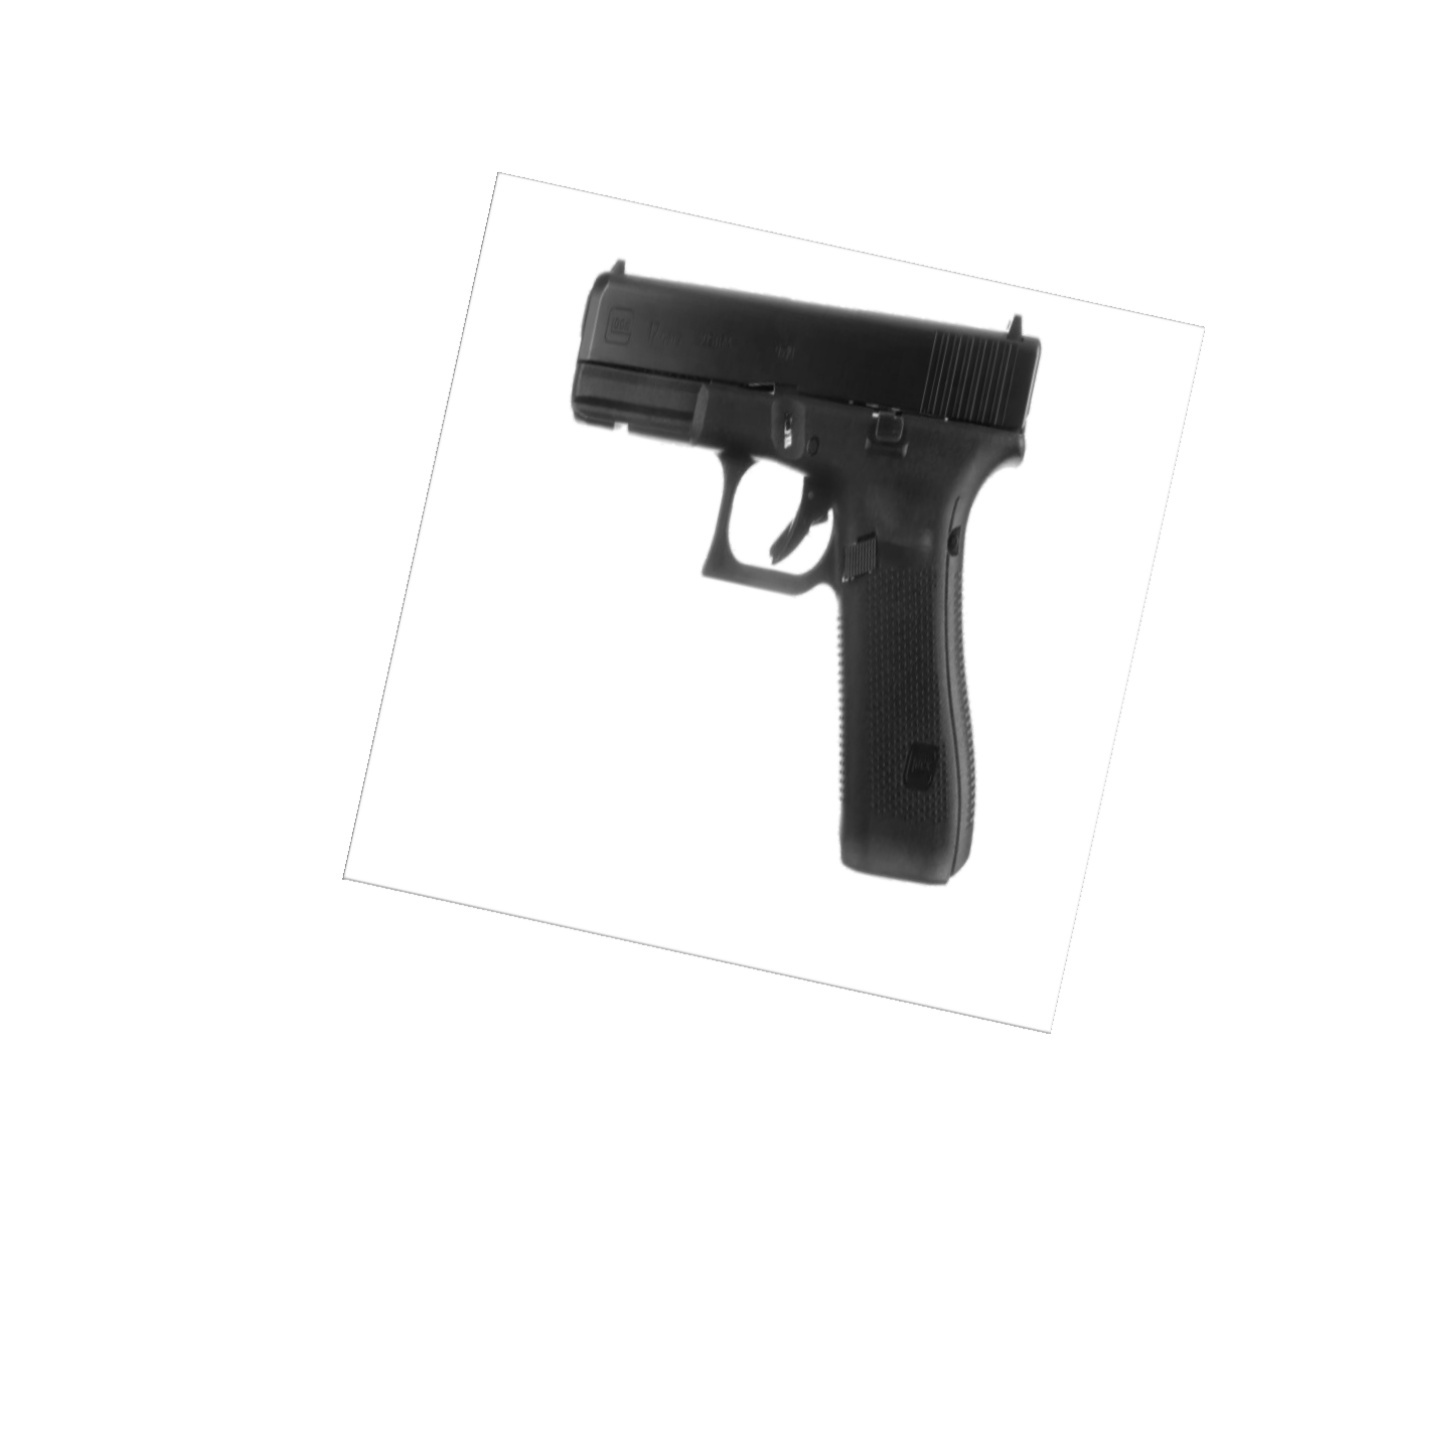gun: (570, 255, 1032, 888)
